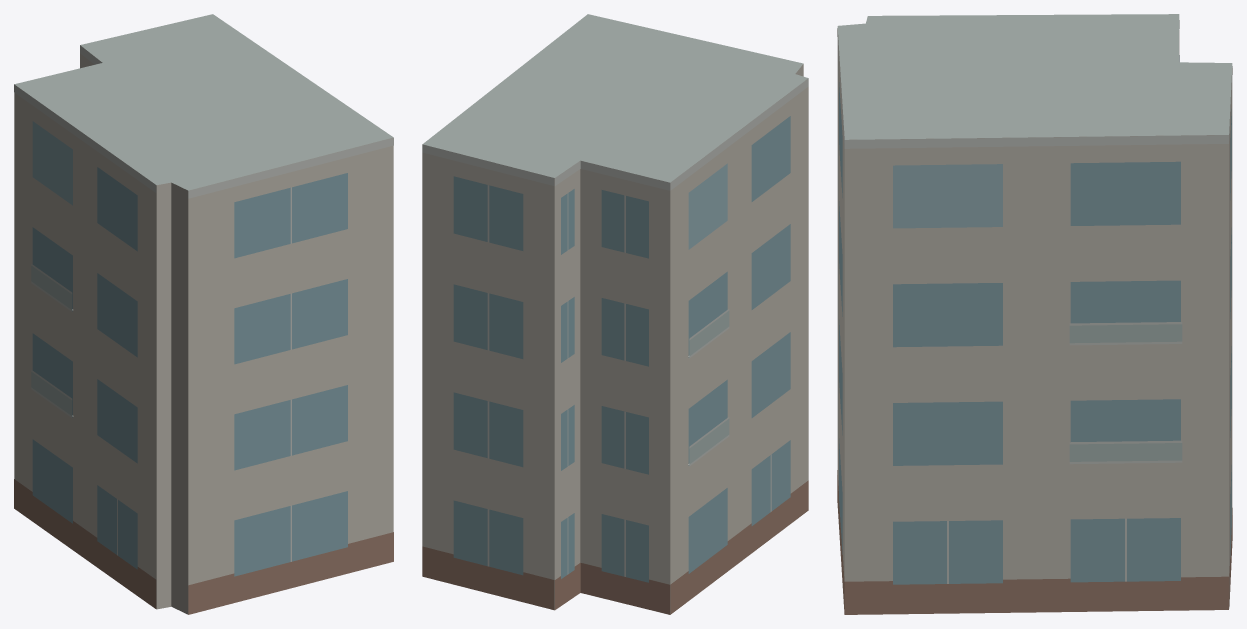
Rendered from survey-upis-32537074.glb.
The picture shows the model from 3 angles, left to right: view 1: azimuth 30°, elevation 25°; view 2: azimuth 150°, elevation 25°; view 3: azimuth 270°, elevation 25°; orthographic projection. The views are drawn at different scales.
Visible parts, largest first — view 1: survey-upis-32537074.tmp; view 2: survey-upis-32537074.tmp; view 3: survey-upis-32537074.tmp.
Part boxes in pixels (box(x1,y1,x2,y2)): survey-upis-32537074.tmp: box(14, 14, 393, 614); survey-upis-32537074.tmp: box(422, 14, 808, 614); survey-upis-32537074.tmp: box(837, 14, 1232, 614).
Size of the model in its own units: 7.3 by 12.8 by 9.65.
